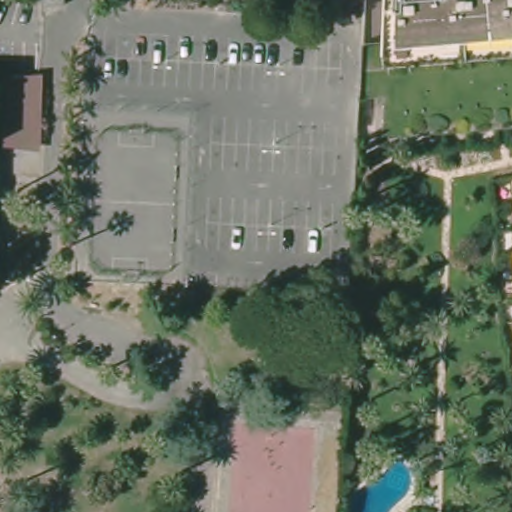pool: (341, 455, 416, 510)
